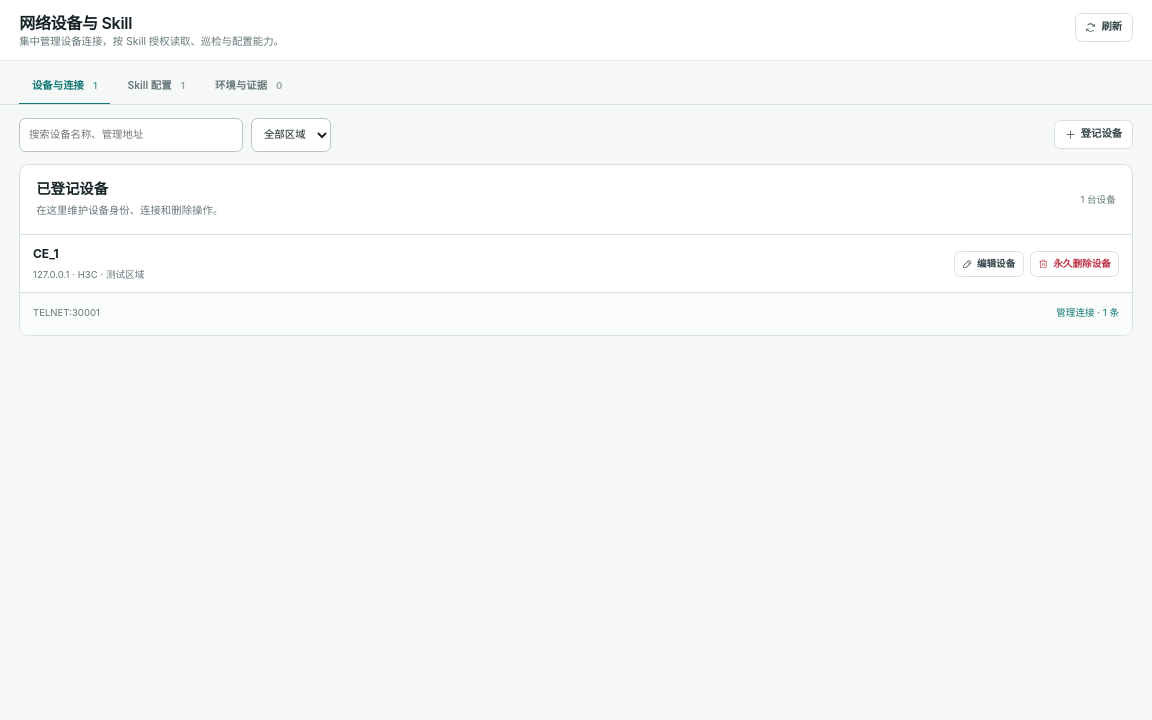
command feedback renders one row for duplicate driver commands during a rolling upgrade
expect the element with test id "device-card-d1" is shown: met, box [20,235,1132,335]
Click the button "环境与证据 0" at (249, 87), box [202,70,295,104]
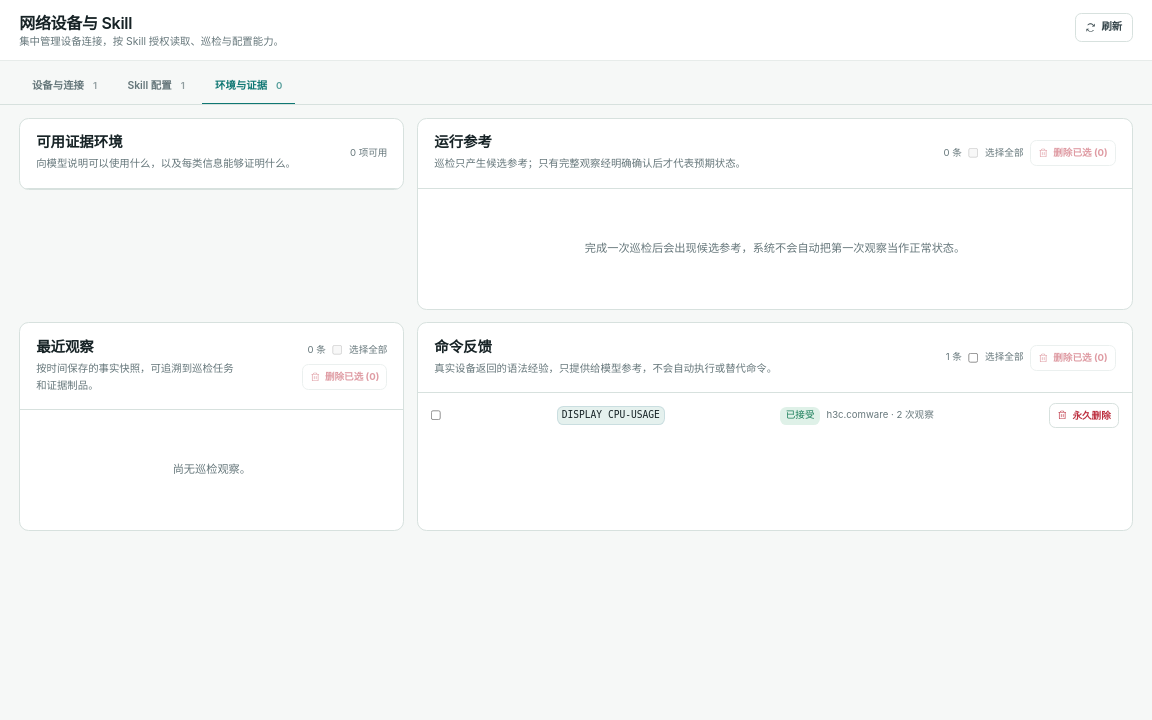
expect the text "1 条" is shown: met, box [946,350,962,365]
expect the text "DISPLAY CPU-USAGE" is shown once: met, box [557,406,665,425]
expect the text "h3c.comware · 2 次观察" is shown: met, box [826,408,934,423]
